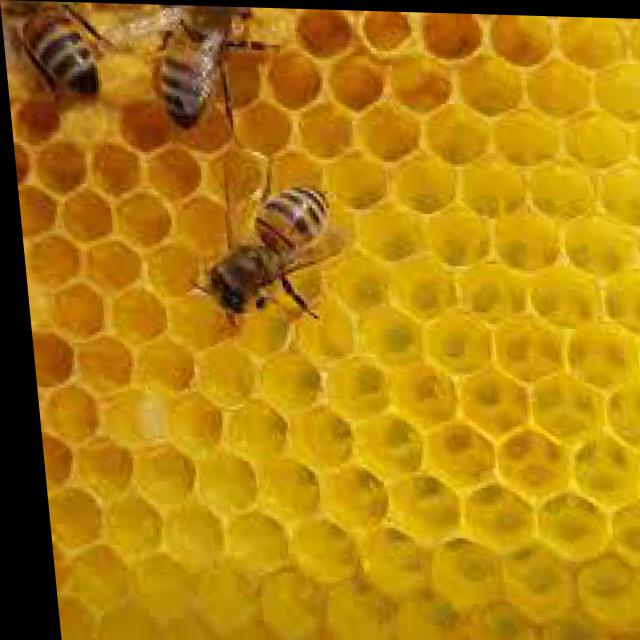Abeille: (191, 146, 365, 314), (139, 3, 278, 135), (0, 0, 116, 100)
